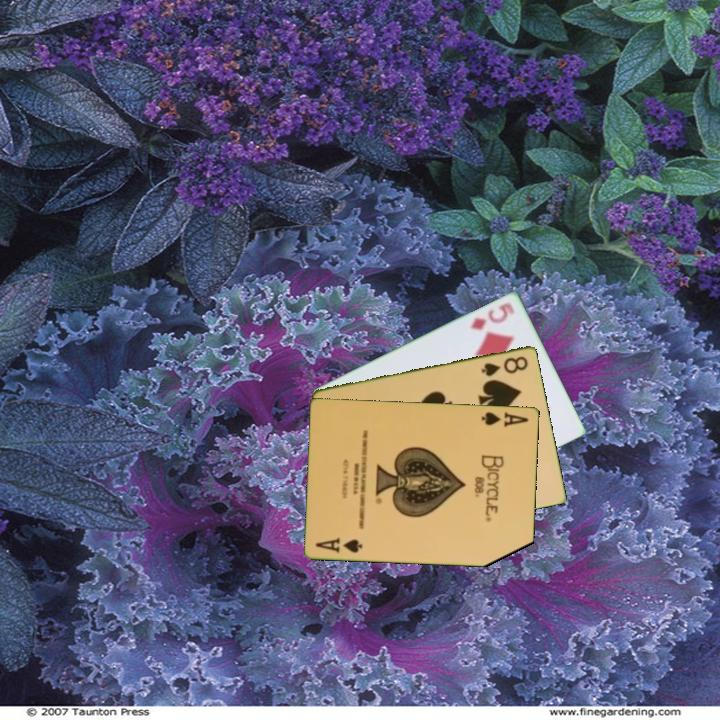5d: (466, 299, 518, 332)
8s: (478, 352, 531, 379)
As: (312, 534, 366, 555), (479, 408, 531, 429)
